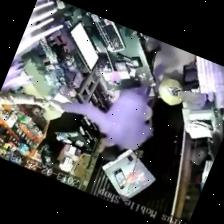person: (51, 85, 152, 160), (35, 116, 64, 173), (0, 90, 45, 105)
